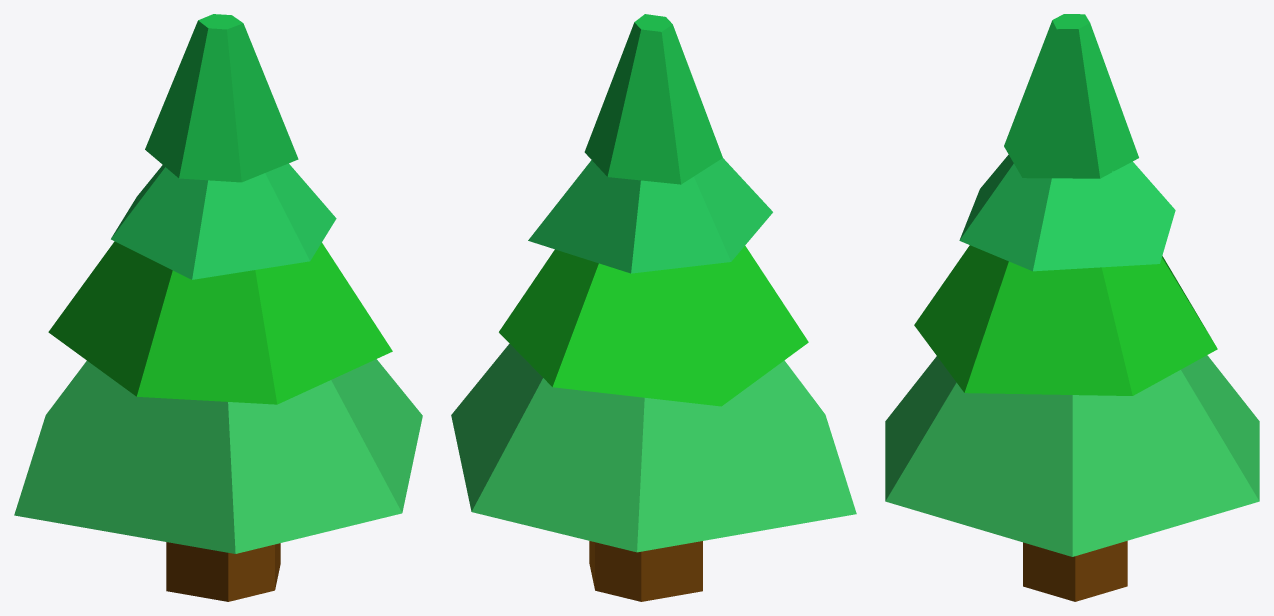
Rendered from conifer.glb.
The picture shows the model from 3 angles, left to right: view 1: azimuth 30°, elevation 25°; view 2: azimuth 150°, elevation 25°; view 3: azimuth 270°, elevation 25°; orthographic projection.
Visible parts, largest first — view 1: Cube.001, Cube.002, Cube.003, Cube.004, Cube; view 2: Cube.001, Cube.002, Cube.003, Cube.004, Cube; view 3: Cube.001, Cube.002, Cube.003, Cube.004, Cube.
Boxes of the visible parts, x1,y1,x2,y2 form: Cube.001: (14, 359, 422, 553); Cube.002: (48, 241, 392, 404); Cube.003: (111, 163, 336, 279); Cube.004: (145, 14, 298, 182); Cube: (166, 542, 280, 601); Cube.001: (451, 343, 856, 552); Cube.002: (499, 246, 808, 406); Cube.003: (528, 158, 772, 273); Cube.004: (584, 14, 722, 184); Cube: (589, 541, 702, 601); Cube.001: (885, 355, 1259, 556); Cube.002: (914, 245, 1217, 395); Cube.003: (959, 154, 1175, 271); Cube.004: (1004, 14, 1138, 178); Cube: (1023, 541, 1127, 601).
Bounding box in the file's own units: 3.55 × 4.63 × 2.86.
Materials: 5 (5 with a texture image).
